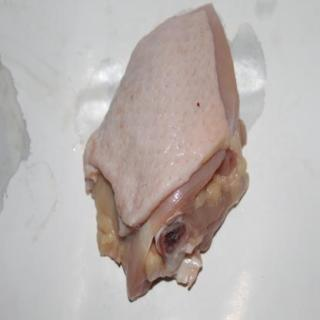Ayam: (85, 9, 248, 301)
